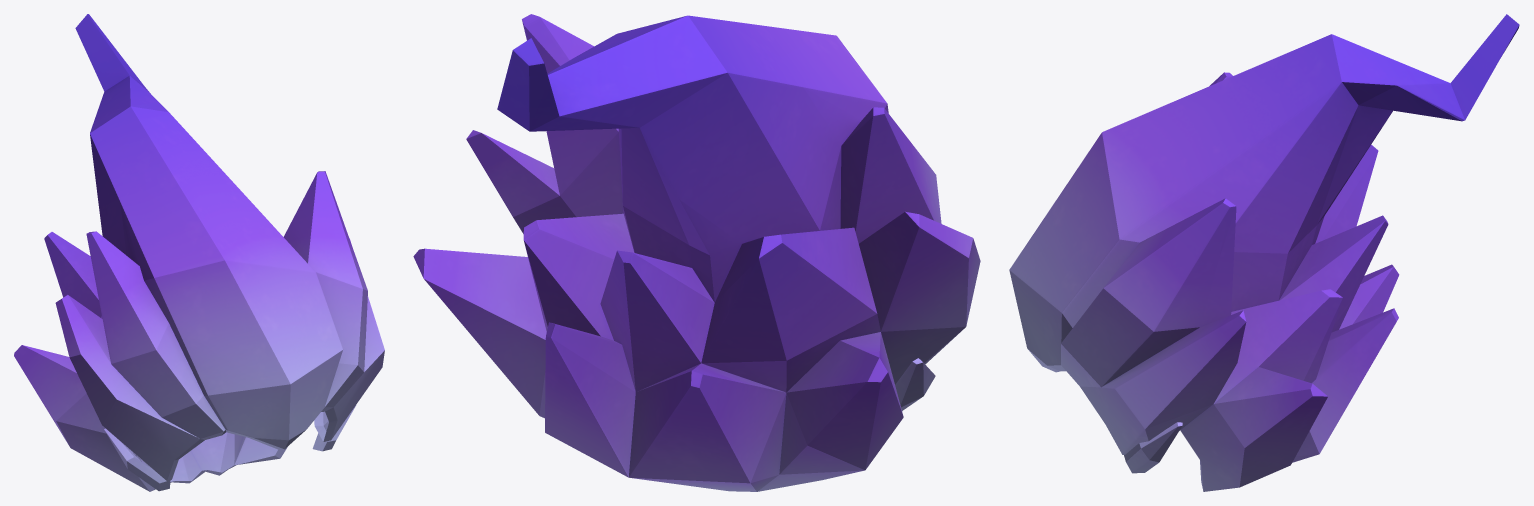
Rendered from SM_hairHat101.fbx.
3 views of the same model, side by side, from view 1: azimuth 30°, elevation 25°; view 2: azimuth 150°, elevation 25°; view 3: azimuth 270°, elevation 25° (orthographic). The views are drawn at different scales.
Parts seen in each view (by area): view 1: hairHat; view 2: hairHat; view 3: hairHat.
Part boxes in pixels (<box>): hairHat: <box>14,14,384,491</box>; hairHat: <box>413,14,980,491</box>; hairHat: <box>1009,14,1519,491</box>.
Bounding box in the file's own units: 60.75 × 70.86 × 71.74.
